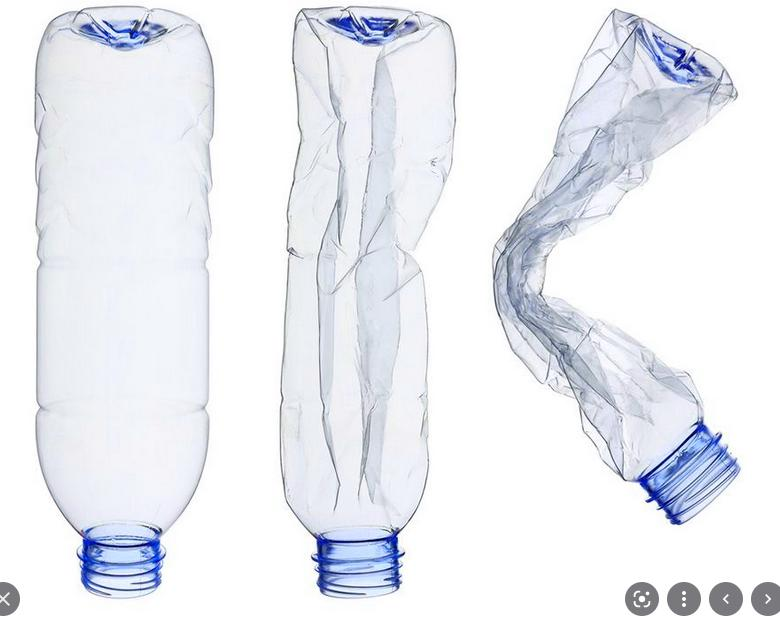Plastic: (481, 7, 759, 542), (261, 1, 460, 605), (28, 0, 218, 601)
